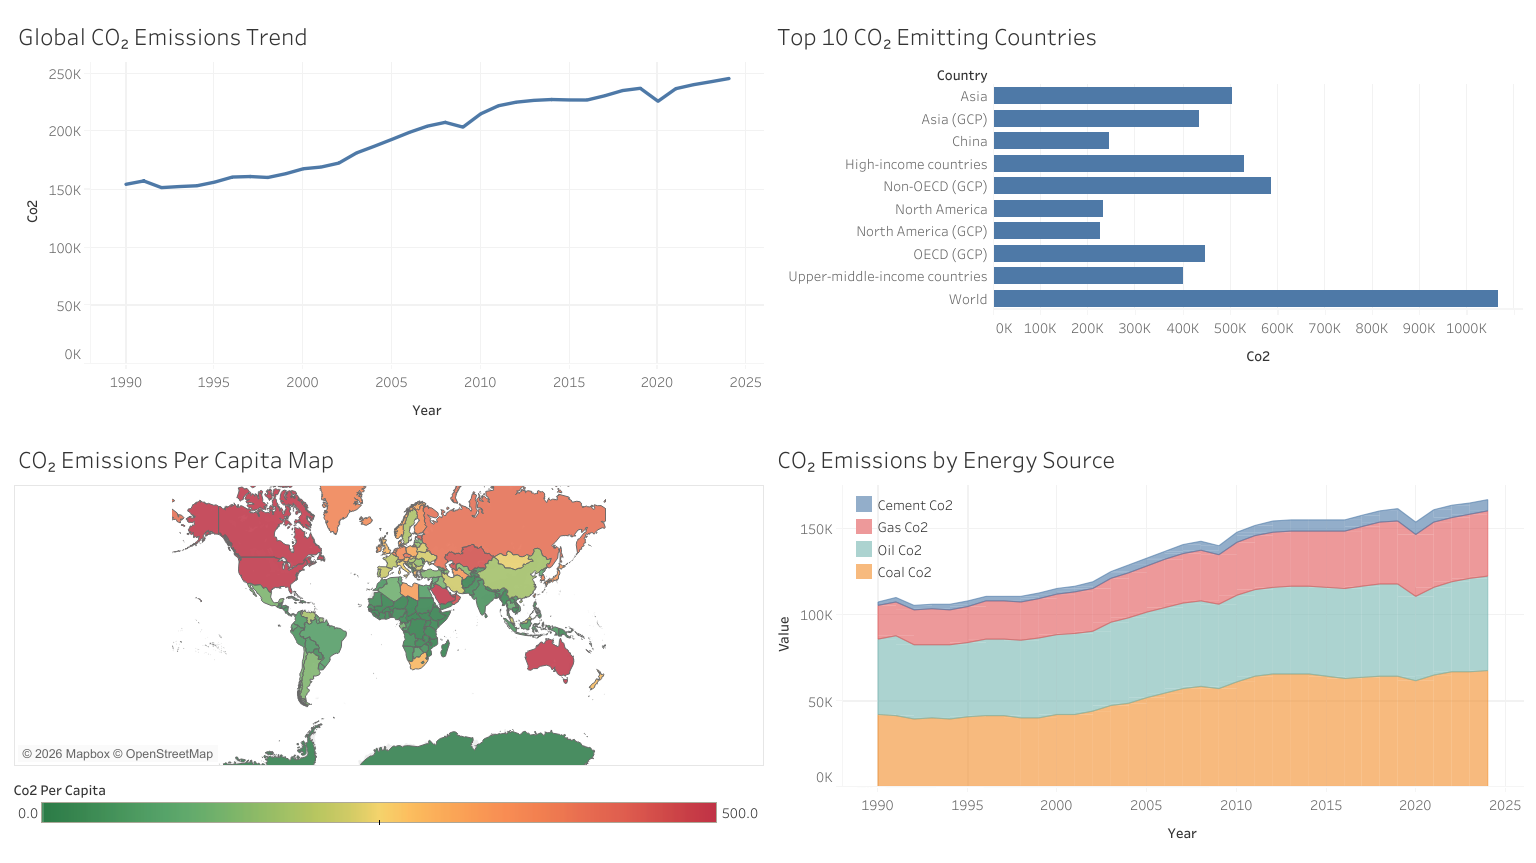

The page's visual inventory and layout, read from the dashboard file:
{"tool":"tableau","page":{"name":"Dashboard 1","canvas":[1366,768],"ordinal":0},"visuals":[{"type":"worksheet","title":"Sheet 1","mark":"Automatic","rows":["co2"],"cols":["year"],"box":[8,8,675,376]},{"type":"worksheet","title":"Sheet 2","mark":"Automatic","rows":["country"],"cols":["co2"],"box":[683,8,675,376]},{"type":"worksheet","title":"Sheet 3","mark":"Automatic","box":[8,384,675,301]},{"type":"worksheet","title":"Sheet 4","mark":"Area","cols":["year"],"box":[683,384,675,376]},{"type":"legend","title":"Sheet 4","param":"[federated.1hr8d5o1qcs4wt11a3n5z04775ta].[:Measure Names]","box":[758,438,170,99]},{"type":"legend","title":"Sheet 3","param":"[federated.1hr8d5o1qcs4wt11a3n5z04775ta].[sum:co2_per_capita:qk]","box":[8,685,675,75]}]}

Visuals, with their boxes in screenshot pixels (x1, y1, x2, y2), scaled from the page's 1366x768 canvas onto the 1536x863 screenshot:
"Sheet 1" worksheet: {"x1": 9, "y1": 9, "x2": 768, "y2": 432}
"Sheet 2" worksheet: {"x1": 768, "y1": 9, "x2": 1527, "y2": 432}
"Sheet 3" worksheet: {"x1": 9, "y1": 432, "x2": 768, "y2": 770}
"Sheet 4" worksheet (Area marks): {"x1": 768, "y1": 432, "x2": 1527, "y2": 854}
"Sheet 4" legend: {"x1": 852, "y1": 492, "x2": 1043, "y2": 603}
"Sheet 3" legend: {"x1": 9, "y1": 770, "x2": 768, "y2": 854}
